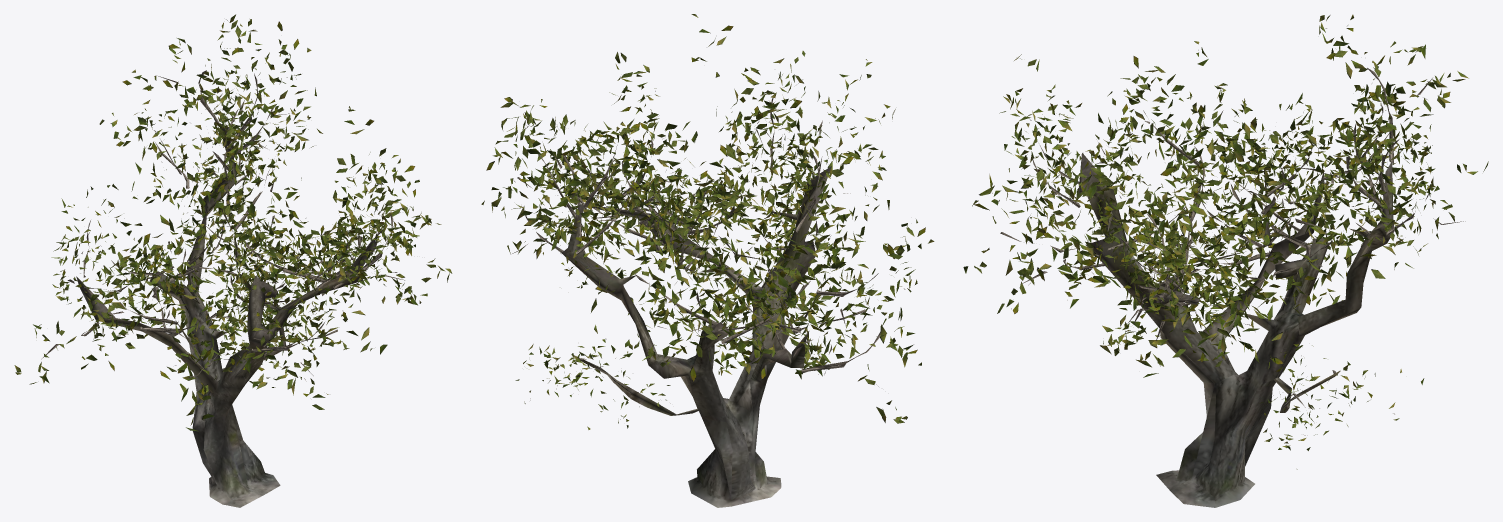
File: arbre_feuillu_rond_lod1.glb
The picture shows the model from 3 angles, left to right: view 1: azimuth 30°, elevation 25°; view 2: azimuth 150°, elevation 25°; view 3: azimuth 270°, elevation 25°; orthographic projection. The views are drawn at different scales.
Parts seen in each view (by area): view 1: island_tree_01_LOD0; view 2: island_tree_01_LOD0; view 3: island_tree_01_LOD0.
Boxes of the visible parts, left/top/right/bottom form: island_tree_01_LOD0: left=14, top=14, right=452, bottom=507; island_tree_01_LOD0: left=481, top=14, right=934, bottom=507; island_tree_01_LOD0: left=963, top=14, right=1488, bottom=507.
Size of the model in its own units: 4.81 by 4.99 by 4.73.
Materials: 3 (3 with a texture image).
